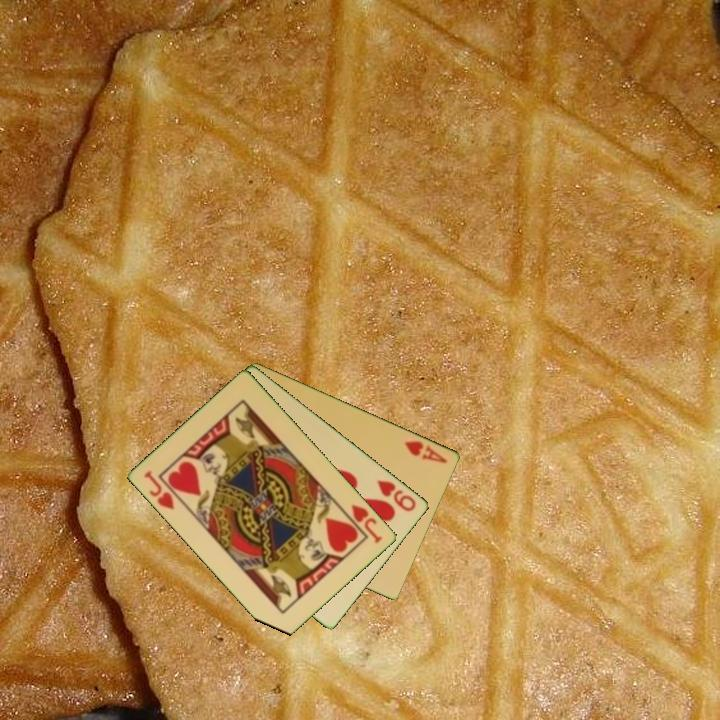9h: (374, 476, 419, 514)
Ah: (401, 437, 450, 466)
Jh: (348, 501, 386, 546), (141, 467, 178, 513)
